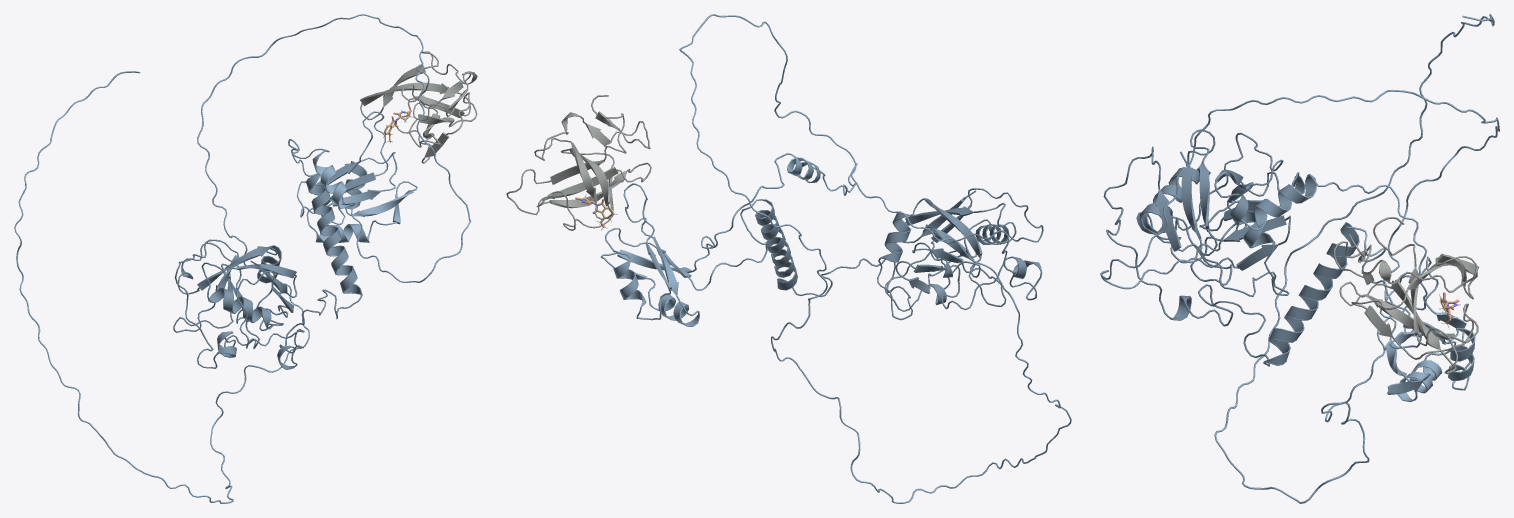
The picture shows the model from 3 angles, left to right: view 1: azimuth 30°, elevation 25°; view 2: azimuth 150°, elevation 25°; view 3: azimuth 270°, elevation 25°; orthographic projection. The views are drawn at different scales.
Visible parts, largest first — view 1: node-geom60, node-geom61; view 2: node-geom60, node-geom61; view 3: node-geom60, node-geom61.
Part boxes in pixels (x1,y1,x2,y2): node-geom60: [173, 51, 477, 369]; node-geom61: [14, 14, 471, 503]; node-geom60: [506, 95, 1043, 320]; node-geom61: [600, 14, 1071, 503]; node-geom60: [1103, 129, 1478, 374]; node-geom61: [1100, 14, 1499, 503].
Bounding box in the file's own units: 141 × 116 × 81.27.
